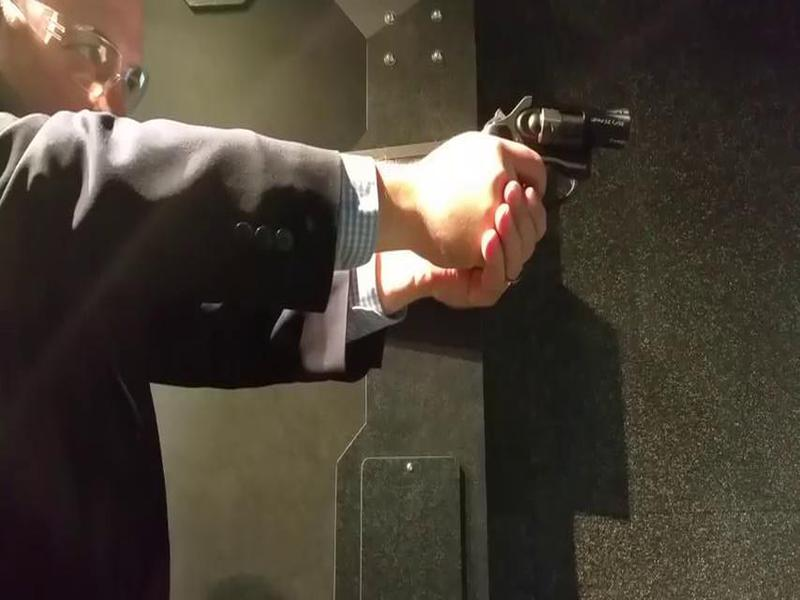Revolver: (467, 70, 631, 238)
